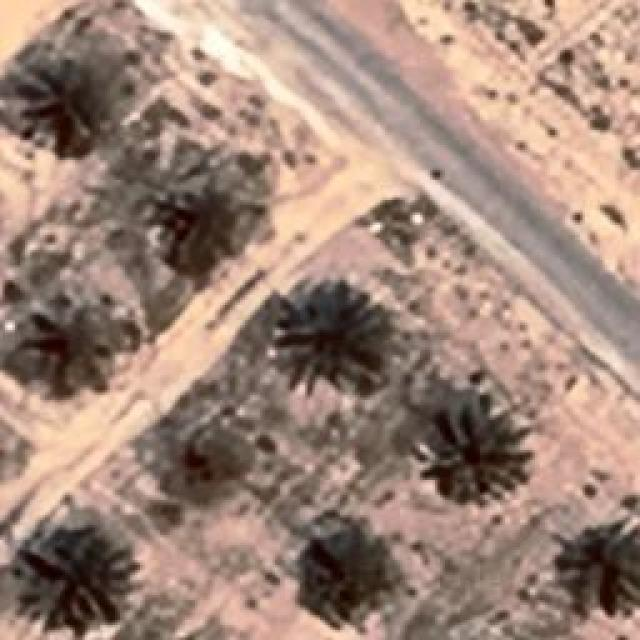PalmTree: (92, 95, 348, 563), (272, 285, 382, 393), (12, 530, 120, 628), (110, 108, 203, 217), (428, 400, 522, 502), (10, 60, 110, 148), (38, 290, 112, 392), (560, 522, 638, 612)
